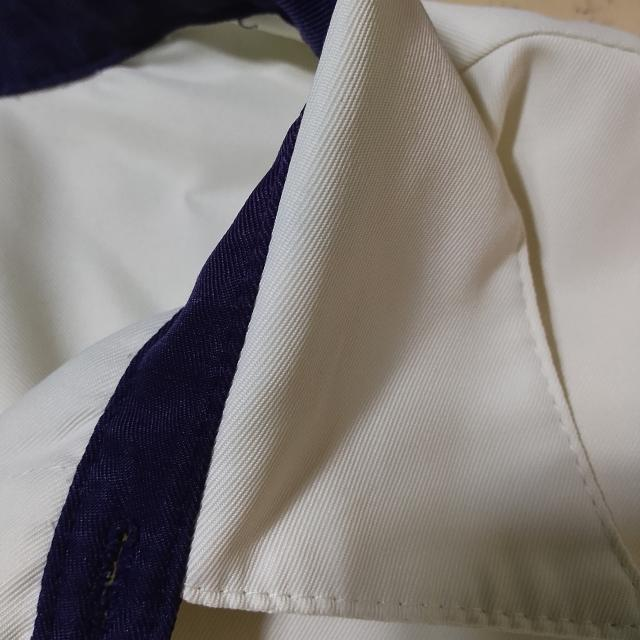education_male_uniform: (2, 1, 527, 640)
